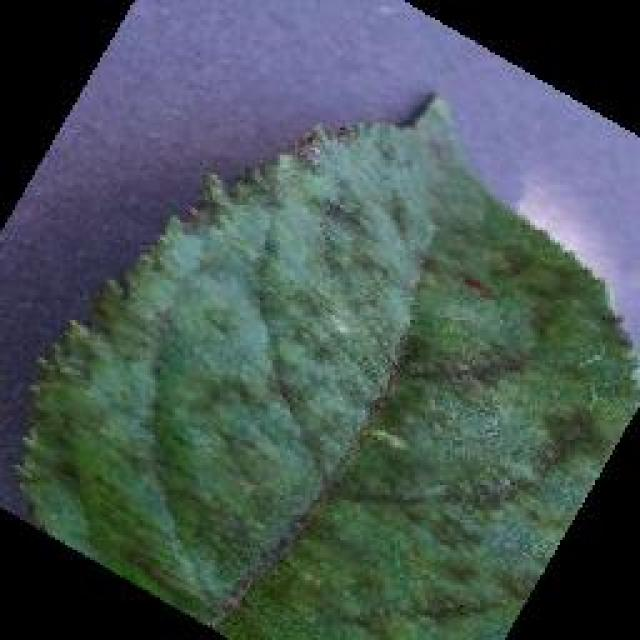apple scab disease: (12, 90, 638, 638)
